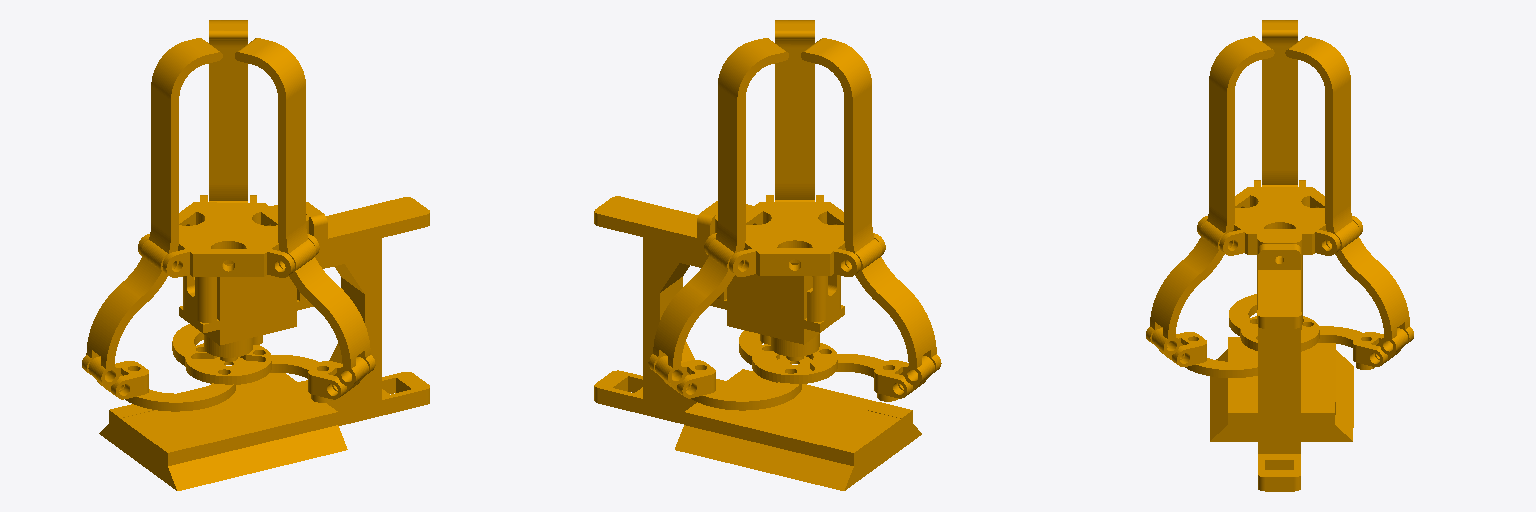
URDF robot description (end_effector):
<?xml version="1.0"?>
<robot name="end_effector">

  <!-- Constants -->
  <!-- scale_factor is manually applied to the mesh scale below. -->

  <!-- Gripper Link with Mesh and Collision -->
  <link name="gripper">
    <visual>
      <origin xyz="0 0 0.08" rpy="0 3.1415 1.57"/>
      <geometry>
        <mesh filename="package://end_effector_description/meshes/claw_assembly.stl" scale="0.001 0.001 0.001"/>
        <!-- <mesh filename="../meshes/claw_assembly.stl" /> -->
        <!-- <box size="1 1 1"/> -->
      </geometry>
    </visual>

    <collision>
      <origin xyz="0.0 0.00 0.06" rpy="0 0 0"/>
      <geometry>
        <box size="0.06 0.09 0.05"/>
      </geometry>
    </collision>

  </link>

</robot>

--- Render facts (derived) ---
Views: 3 orthographic renders of the robot side by side, from view 1: azimuth 30°, elevation 25°; view 2: azimuth 150°, elevation 25°; view 3: azimuth 270°, elevation 25°.
Robot: end_effector — 1 links, 0 joints (none); root link gripper; default pose: all joints at 0.
Links seen in each view (by area): view 1: gripper; view 2: gripper; view 3: gripper.
Boxes of the visible links, <box> form: gripper: <box>82,20,429,490</box>; gripper: <box>594,20,941,490</box>; gripper: <box>1146,20,1413,491</box>.
Bounding box of the posed robot: 0.0967 × 0.0747 × 0.1126 m (x, y, z).
1 mesh visuals loaded from 1 distinct referenced files (1 binary STL).
